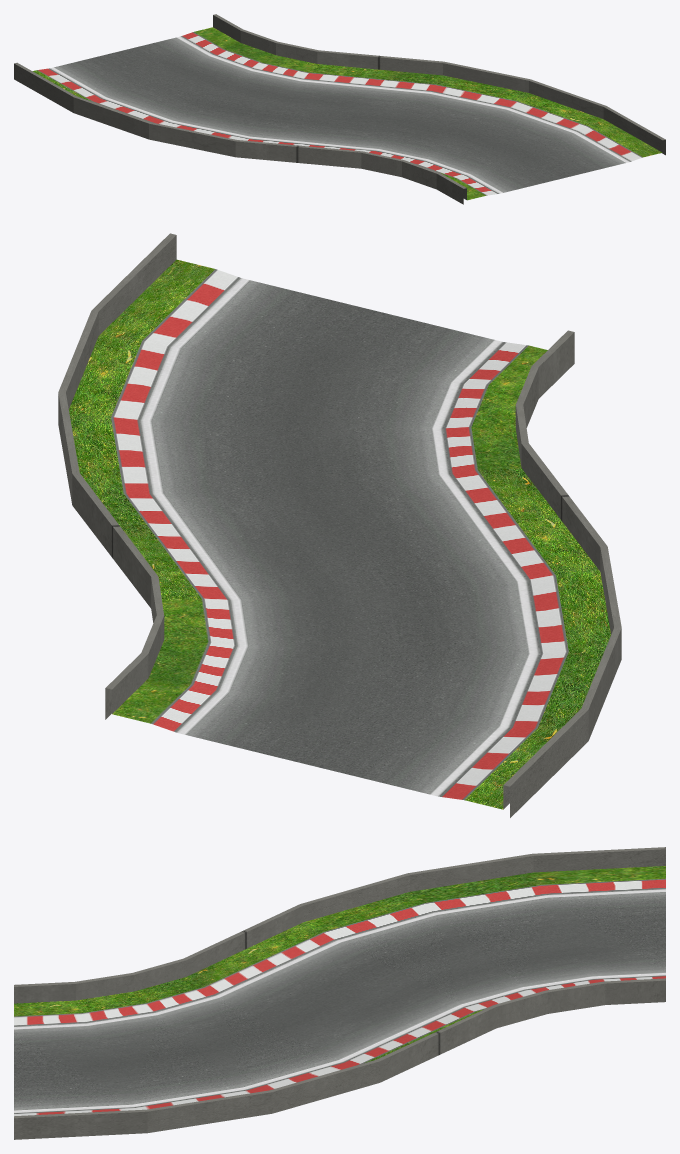
The model's file is turn_l_r.fbx.
The picture shows the model from 3 angles, top to bottom: view 1: azimuth 30°, elevation 25°; view 2: azimuth 150°, elevation 25°; view 3: azimuth 270°, elevation 25°; orthographic projection. The views are drawn at different scales.
Visible parts, largest first — view 1: 4; view 2: 4; view 3: 4.
Part boxes in pixels (x1,y1,x2,y2): 4: [14, 14, 665, 204]; 4: [58, 233, 621, 817]; 4: [14, 847, 665, 1139].
Size of the model in its own units: 360 by 13.35 by 366.
